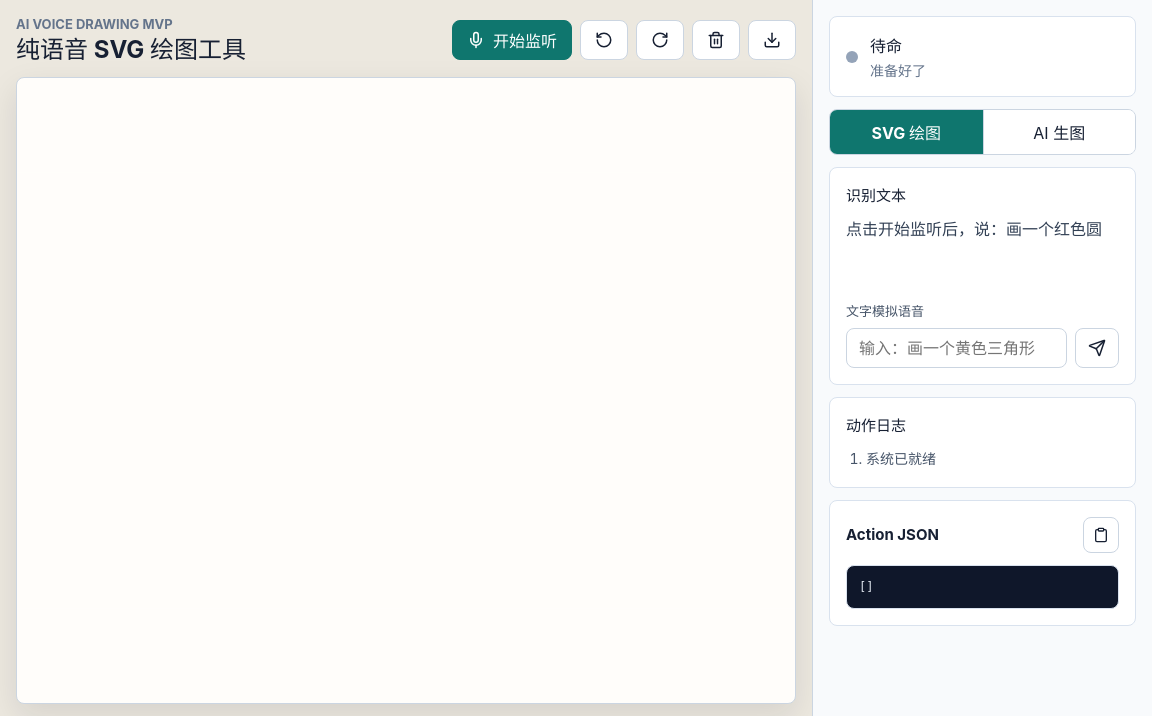
Test: App › uses typed text as a simulated voice command
Type "画一个黄色三角形" into the field labelled "文字模拟语音". click: (956, 348)
box: [846,328,1067,368]
Then press Enter
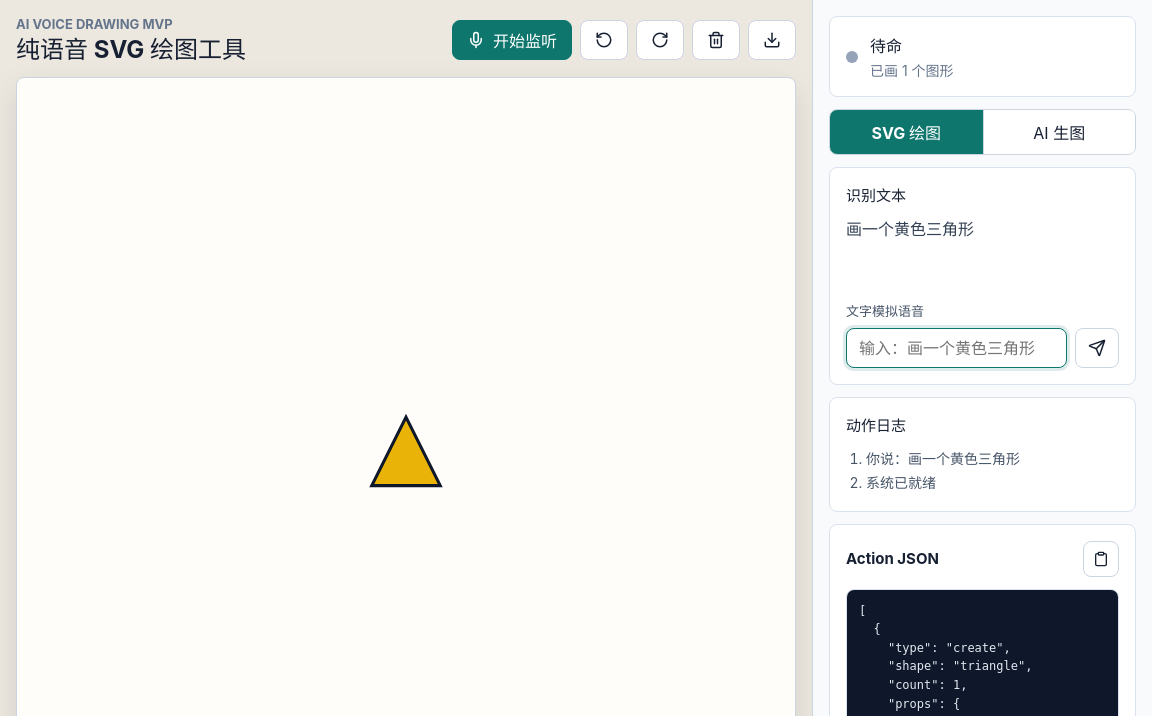
Expected: the text "画一个黄色三角形" is shown, [846,219,974,239]
